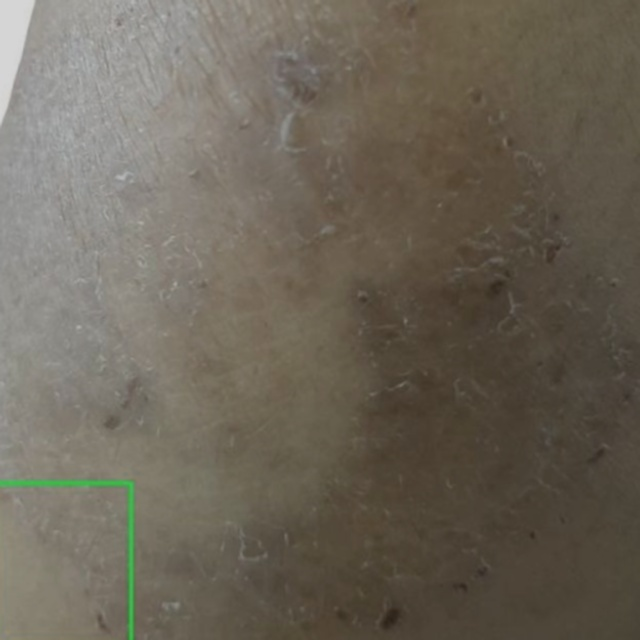Tinea Corporis: (0, 483, 131, 639)
